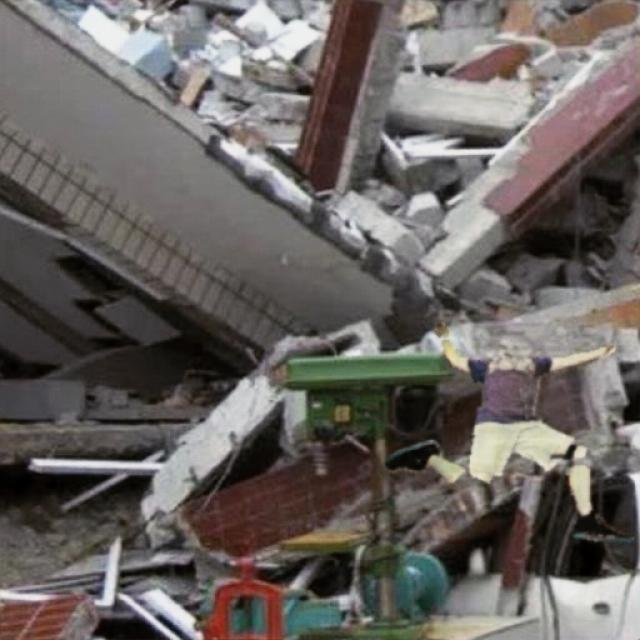Person in Rubble: (383, 322, 632, 542)
